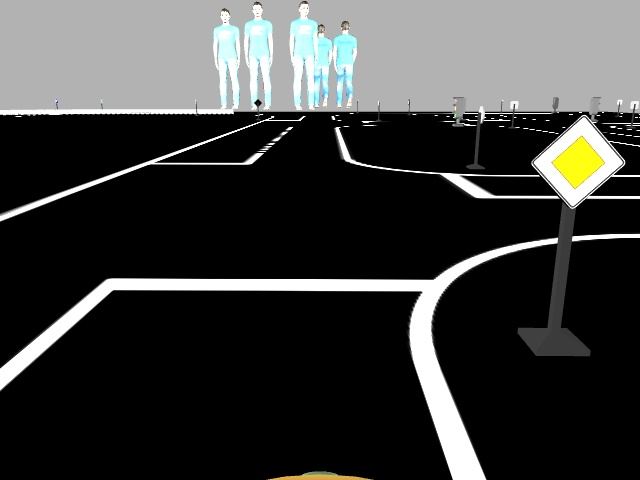Priority: (529, 116, 625, 208)
